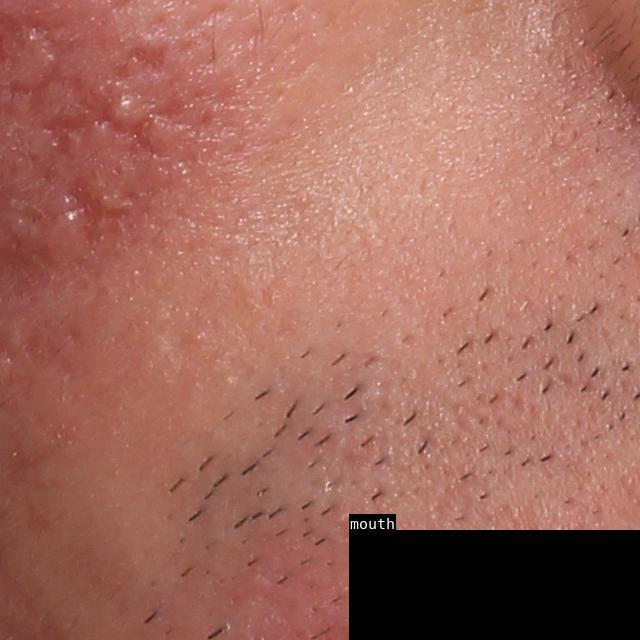atrophic_scar: (68, 178, 142, 248), (124, 41, 172, 72)
hypertrophic_scar: (112, 94, 141, 120)
